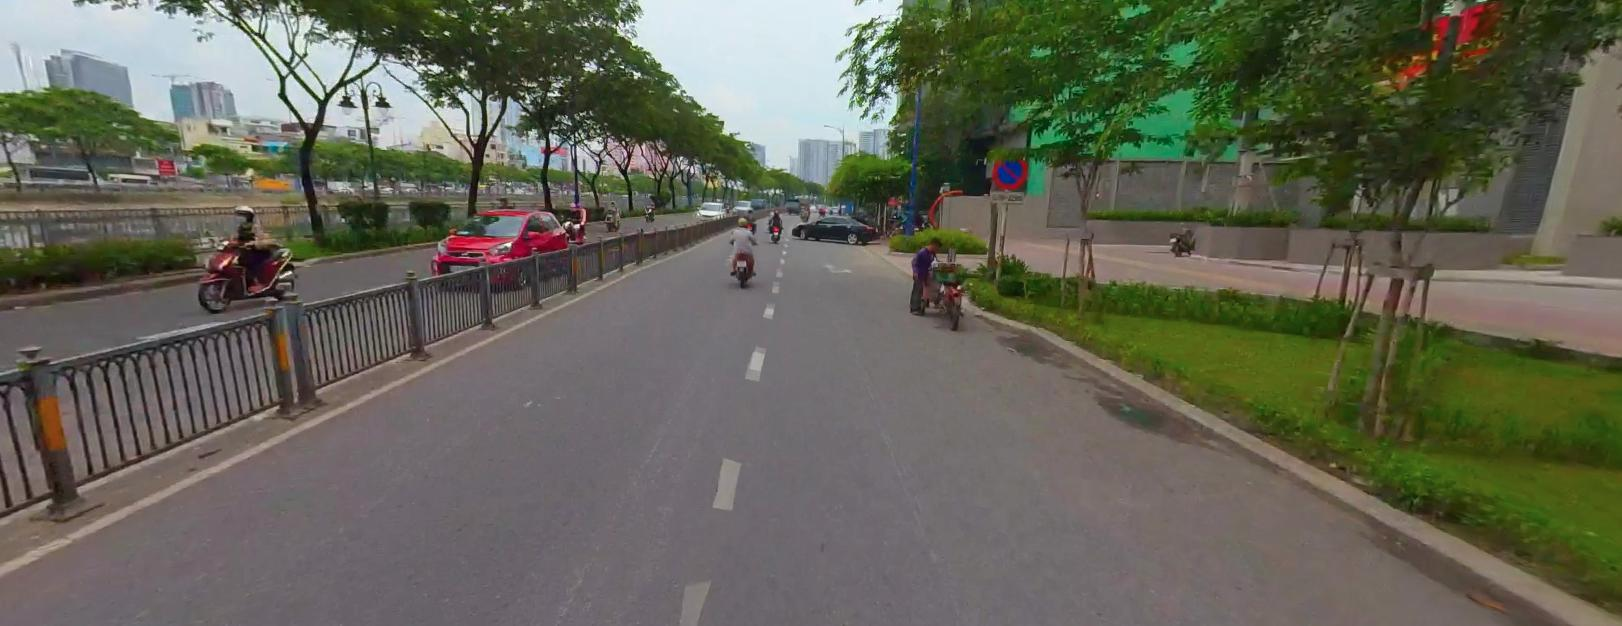Cam dung va do: (990, 153, 1028, 189)
